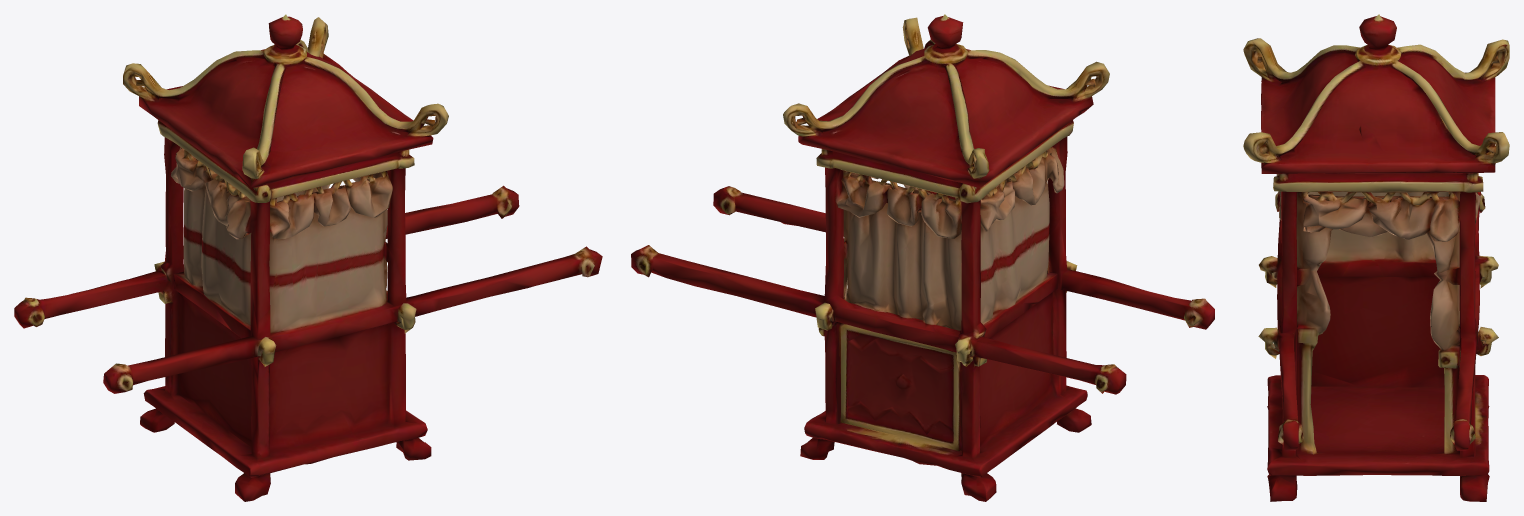
File: court-sedan.glb
The picture shows the model from 3 angles, left to right: view 1: azimuth 30°, elevation 25°; view 2: azimuth 150°, elevation 25°; view 3: azimuth 270°, elevation 25°; orthographic projection. The views are drawn at different scales.
Visible parts, largest first — view 1: tripo_node_be0d3c79-e261-4812-ac33-2ab5581805eb; view 2: tripo_node_be0d3c79-e261-4812-ac33-2ab5581805eb; view 3: tripo_node_be0d3c79-e261-4812-ac33-2ab5581805eb.
Boxes of the visible parts, <box> form: tripo_node_be0d3c79-e261-4812-ac33-2ab5581805eb: <box>14,14,602,501</box>; tripo_node_be0d3c79-e261-4812-ac33-2ab5581805eb: <box>631,14,1214,501</box>; tripo_node_be0d3c79-e261-4812-ac33-2ab5581805eb: <box>1243,14,1509,501</box>.
Size of the model in its own units: 1 by 0.8296 by 0.4511.
Materials: 1 (1 with a texture image).
